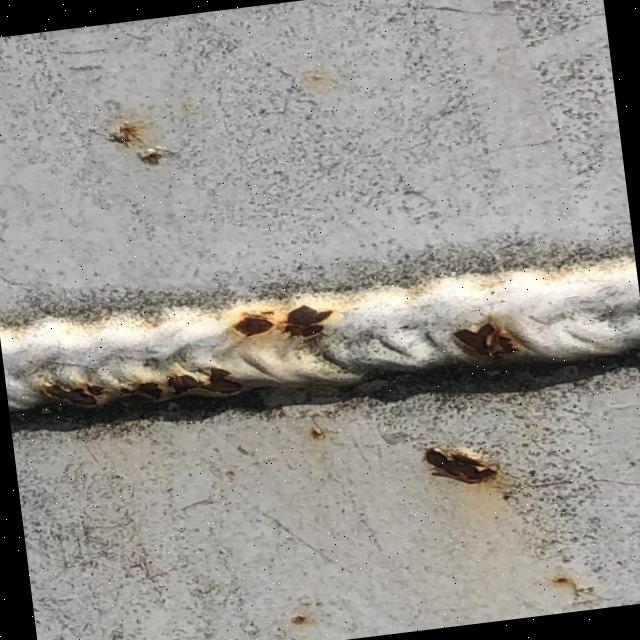Corrosion: (229, 298, 335, 346), (422, 437, 499, 490), (450, 316, 526, 364)
